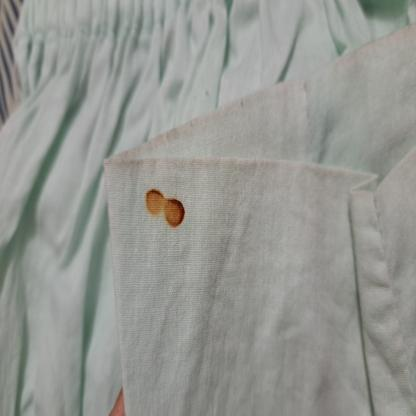spot: (142, 179, 189, 231)
